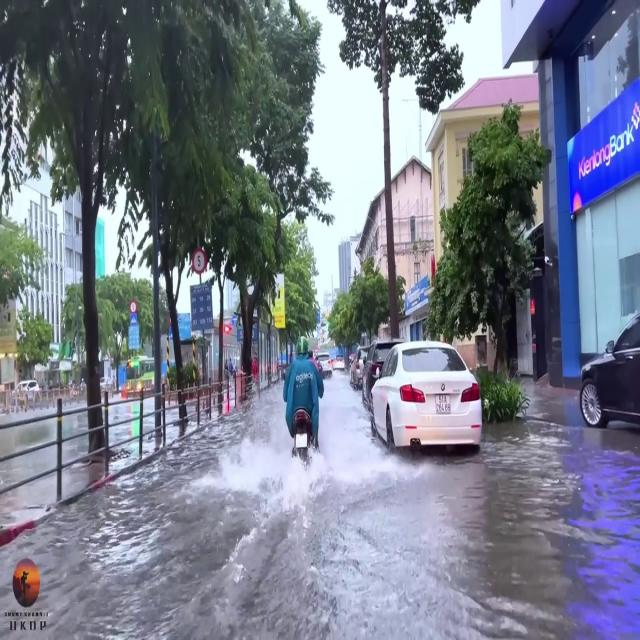bien_trang: (435, 395, 451, 413)
